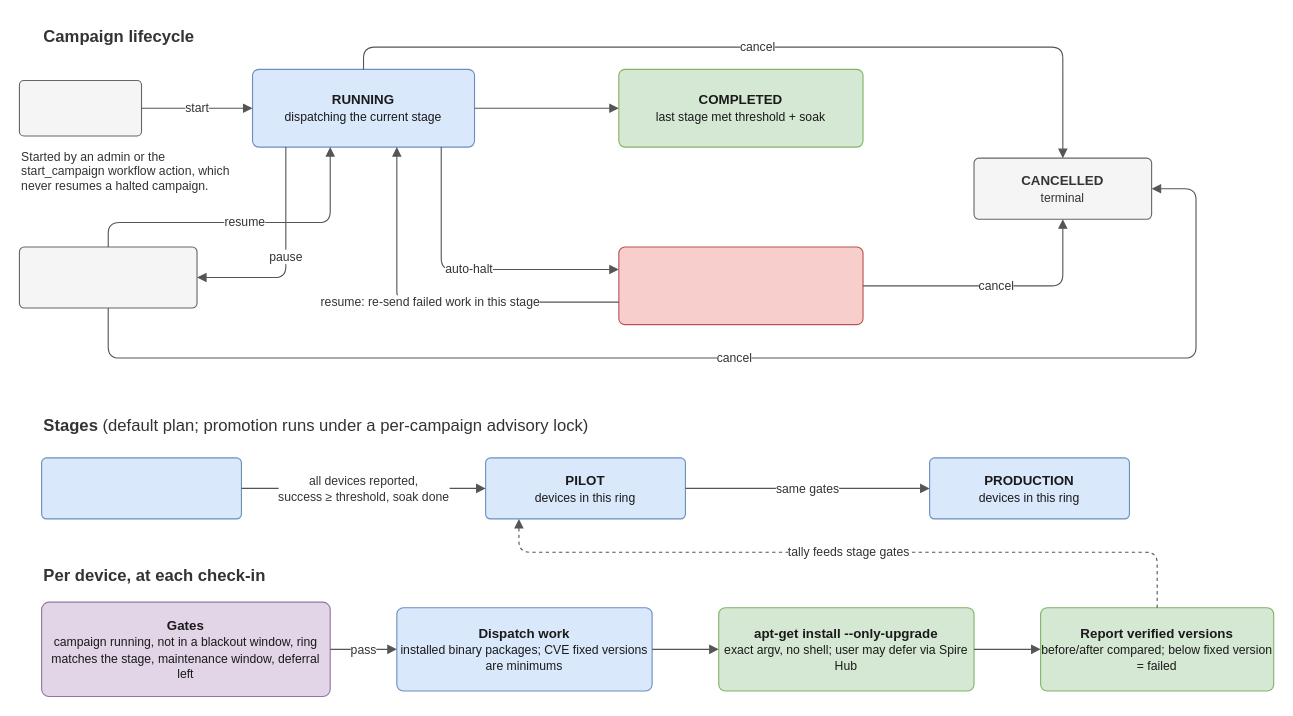
Some shapes in this 1293 by 716 pixel diagram are drawn without their labels. The shapes that lost their labels are listed below. From the top down, each one's centre as x and y in pixels, then its label:
(80,107): DRAFT
(107,277): PAUSED admin paused
(740,285): HALTED failure threshold exceeded, alert raised
(141,488): CANARY devices in this ring
